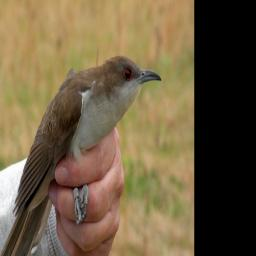Cuckoo: (0, 54, 162, 256)
